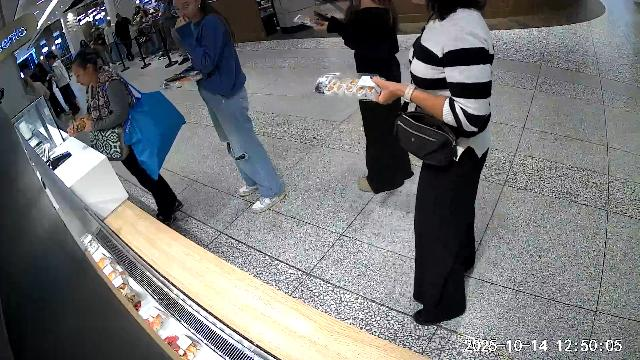sushi-box: (313, 72, 385, 102), (159, 70, 205, 90), (68, 114, 94, 136)
